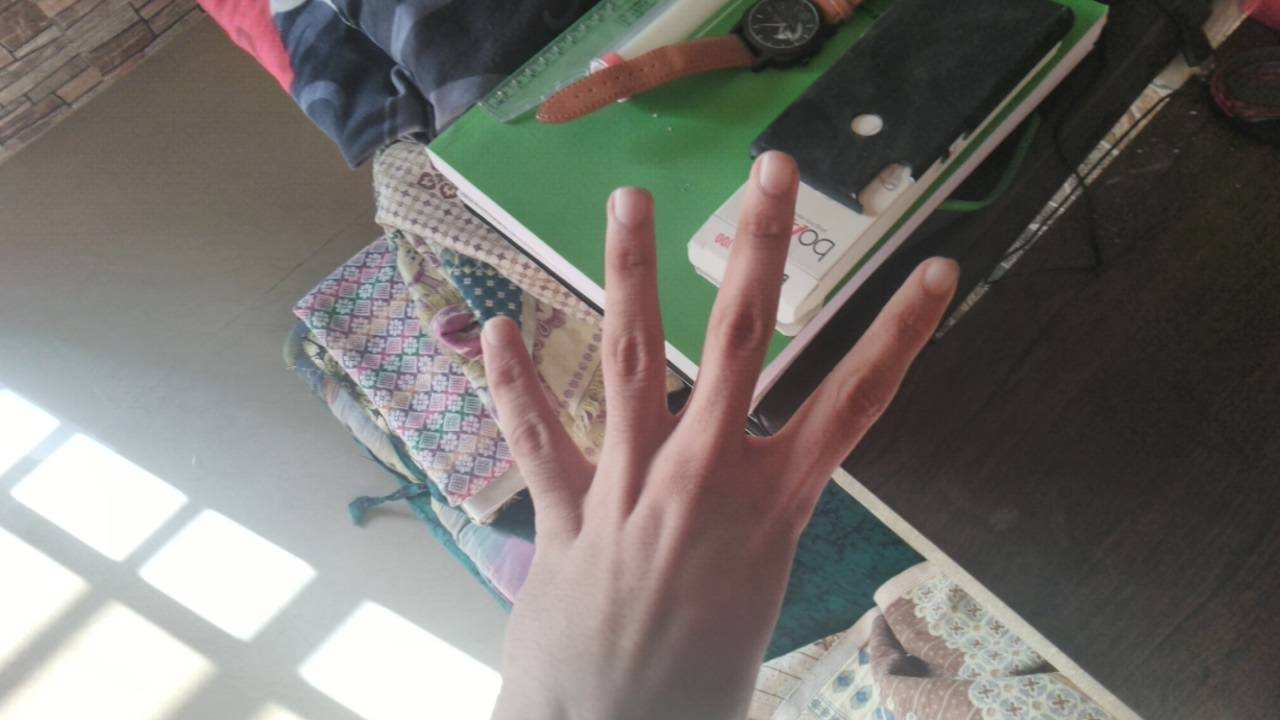fingertip: (740, 138, 806, 206), (466, 305, 534, 364), (902, 250, 970, 306), (598, 176, 658, 236)
